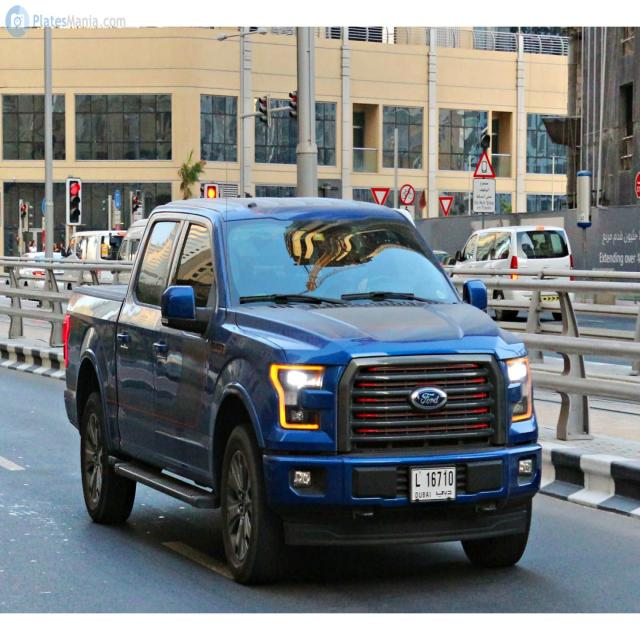License-plate: (410, 465, 458, 504)
